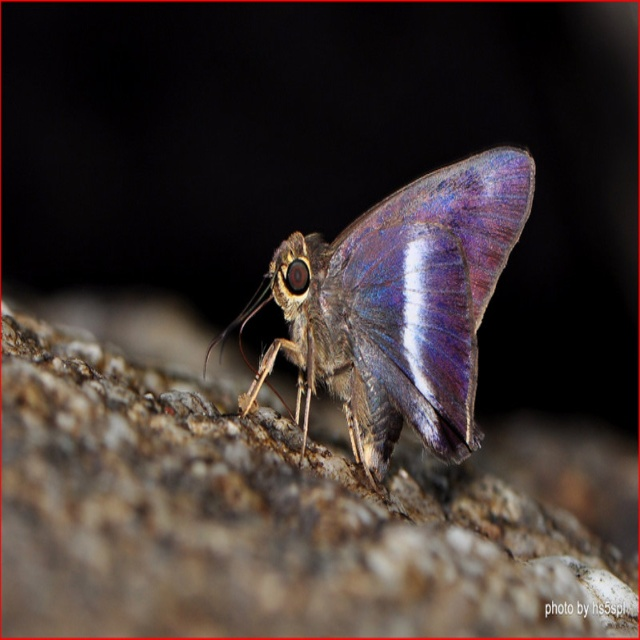Butterfly: (221, 146, 537, 499)
